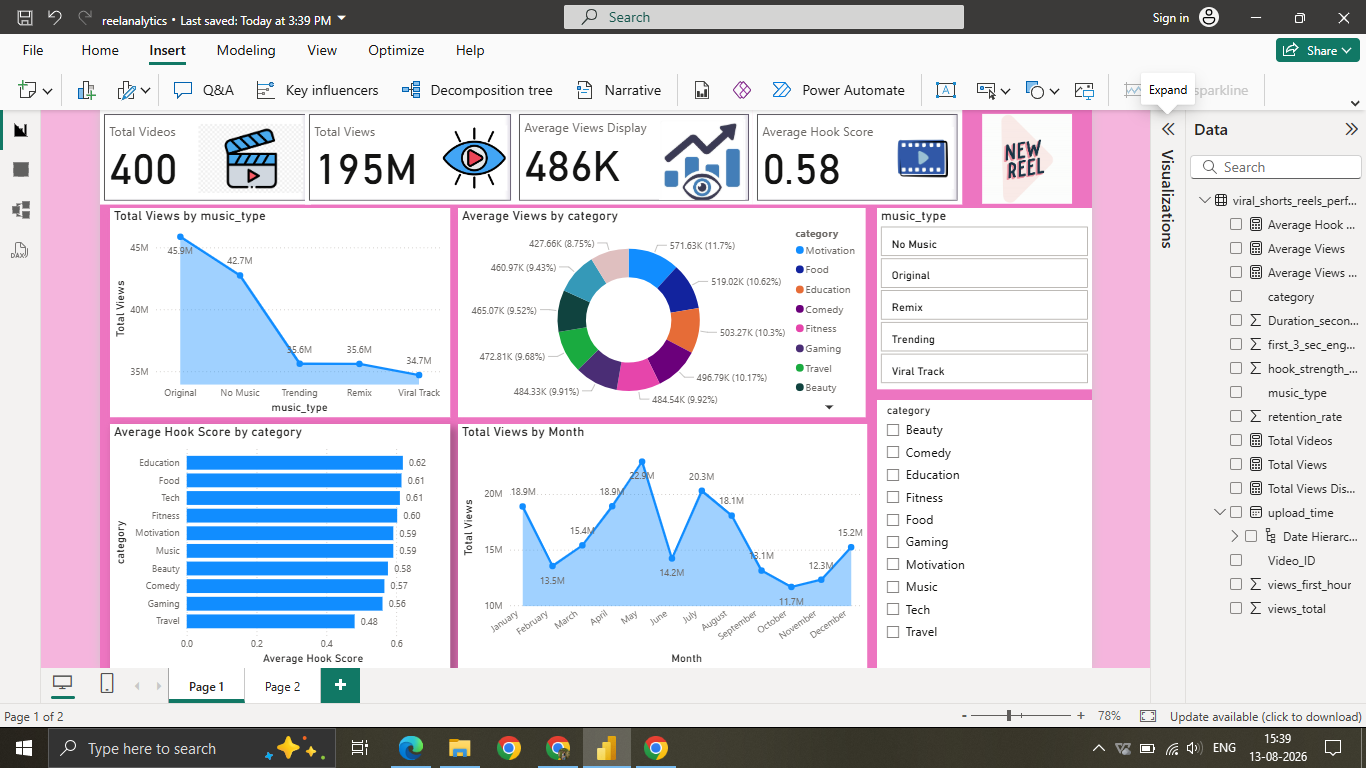

This screenshot's page, from the dashboard's own definition file:
{"tool":"powerbi","page":{"name":"Page 1","canvas":[1280,720],"ordinal":0},"visuals":[{"type":"cardVisual","fields":{"Data":["viral_shorts_reels_performance_dataset.Total Videos"]},"box":[0,0,272.5,122.3],"z":0},{"type":"cardVisual","fields":{"Data":["viral_shorts_reels_performance_dataset.Total Views"]},"box":[264.5,0,271.2,122.3],"z":1000},{"type":"cardVisual","fields":{"Data":["viral_shorts_reels_performance_dataset.Average Views Display"]},"box":[535.7,0,307,122.3],"z":2000},{"type":"cardVisual","fields":{"Data":["viral_shorts_reels_performance_dataset.Average Hook Score"]},"box":[842.7,0,269.8,122.3],"z":3000},{"type":"lineChart","fields":{"Y":["viral_shorts_reels_performance_dataset.Total Views"],"Category":["viral_shorts_reels_performance_dataset.music_type"]},"box":[13.3,126.3,438.6,269.8],"z":4000},{"type":"barChart","fields":{"Y":["viral_shorts_reels_performance_dataset.Average Hook Score"],"Category":["viral_shorts_reels_performance_dataset.category"]},"box":[13.3,405.4,438.6,315],"z":5000},{"type":"lineChart","fields":{"Category":["viral_shorts_reels_performance_dataset.upload_time.Variation.Date Hierarchy.Month"],"Y":["viral_shorts_reels_performance_dataset.Total Views"]},"box":[462.6,405.4,527.7,315],"z":6000},{"type":"donutChart","fields":{"Category":["viral_shorts_reels_performance_dataset.category"],"Y":["viral_shorts_reels_performance_dataset.Average Views"]},"box":[462.6,126.3,526.4,269.8],"z":7000},{"type":"advancedSlicerVisual","fields":{"Values":["viral_shorts_reels_performance_dataset.music_type"]},"box":[1002.2,126.3,277.8,233.9],"z":8000},{"type":"image","box":[1112.5,0,167.5,126.3],"z":9003},{"type":"slicer","fields":{"Values":["viral_shorts_reels_performance_dataset.category"]},"box":[1002.2,374.8,277.8,345.6],"z":9004}]}

Visuals, with their boxes on the page's 1280x720 design canvas (x1, y1, x2, y2). These are canvas units, not pixel positions in the 1366x768 screenshot, which may show the page scaled, cropped or inside an application window:
cardVisual - viral_shorts_reels_performance_dataset.Total Videos: {"left": 0, "top": 0, "right": 272, "bottom": 122}
cardVisual - viral_shorts_reels_performance_dataset.Total Views: {"left": 264, "top": 0, "right": 536, "bottom": 122}
cardVisual - viral_shorts_reels_performance_dataset.Average Views Display: {"left": 536, "top": 0, "right": 843, "bottom": 122}
cardVisual - viral_shorts_reels_performance_dataset.Average Hook Score: {"left": 843, "top": 0, "right": 1112, "bottom": 122}
lineChart - viral_shorts_reels_performance_dataset.Total Views x viral_shorts_reels_performance_dataset.music_type: {"left": 13, "top": 126, "right": 452, "bottom": 396}
barChart - viral_shorts_reels_performance_dataset.Average Hook Score x viral_shorts_reels_performance_dataset.category: {"left": 13, "top": 405, "right": 452, "bottom": 720}
lineChart - viral_shorts_reels_performance_dataset.upload_time.Variation.Date Hierarchy.Month x viral_shorts_reels_performance_dataset.Total Views: {"left": 463, "top": 405, "right": 990, "bottom": 720}
donutChart - viral_shorts_reels_performance_dataset.category x viral_shorts_reels_performance_dataset.Average Views: {"left": 463, "top": 126, "right": 989, "bottom": 396}
advancedSlicerVisual - viral_shorts_reels_performance_dataset.music_type: {"left": 1002, "top": 126, "right": 1280, "bottom": 360}
image: {"left": 1112, "top": 0, "right": 1280, "bottom": 126}
slicer - viral_shorts_reels_performance_dataset.category: {"left": 1002, "top": 375, "right": 1280, "bottom": 720}
